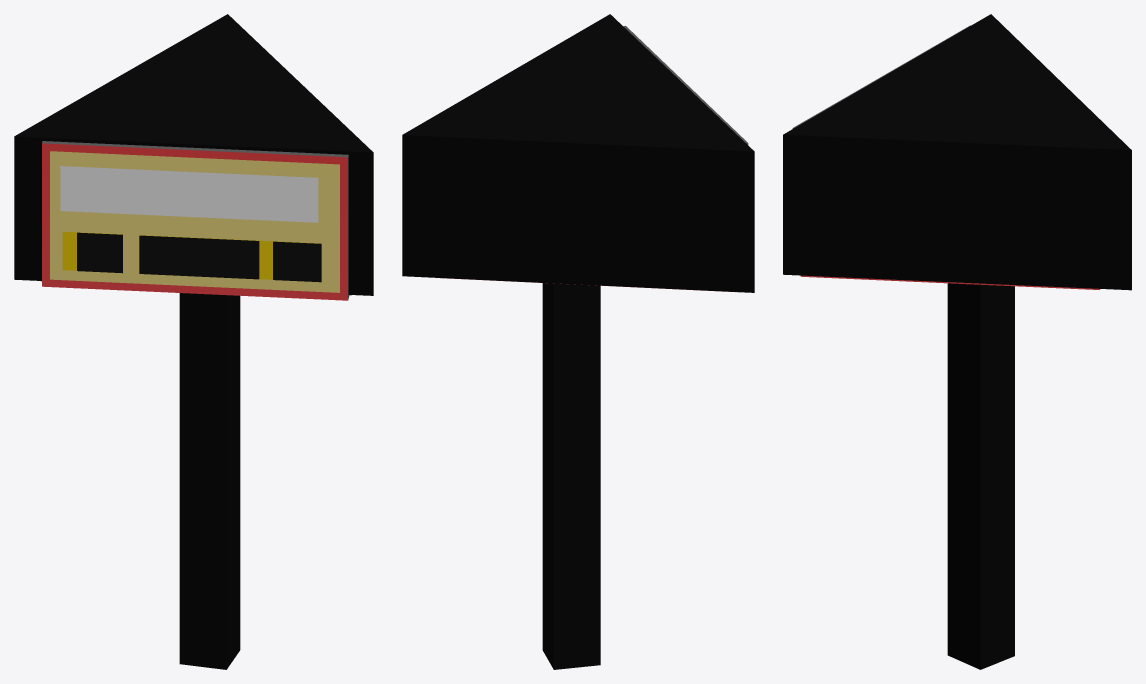
Rendered from s_exhaust_sign_001.dae.
3 renders of one model, left to right at view 1: azimuth 30°, elevation 25°; view 2: azimuth 150°, elevation 25°; view 3: azimuth 270°, elevation 25°, orthographic. The views are drawn at different scales.
Visible parts, largest first — view 1: Colmesh_s_exhaust_sign_001-1, s_exhaust_sign_001_L45; view 2: Colmesh_s_exhaust_sign_001-1, s_exhaust_sign_001_L45; view 3: Colmesh_s_exhaust_sign_001-1, s_exhaust_sign_001_L45.
Part boxes in pixels (<box>): Colmesh_s_exhaust_sign_001-1: <box>14,14,373,669</box>; s_exhaust_sign_001_L45: <box>41,141,351,300</box>; Colmesh_s_exhaust_sign_001-1: <box>402,14,754,669</box>; s_exhaust_sign_001_L45: <box>435,26,748,292</box>; Colmesh_s_exhaust_sign_001-1: <box>783,14,1131,669</box>; s_exhaust_sign_001_L45: <box>792,25,1100,289</box>.
Bounding box in the file's own units: 2.7 × 2.92 × 5.08.
